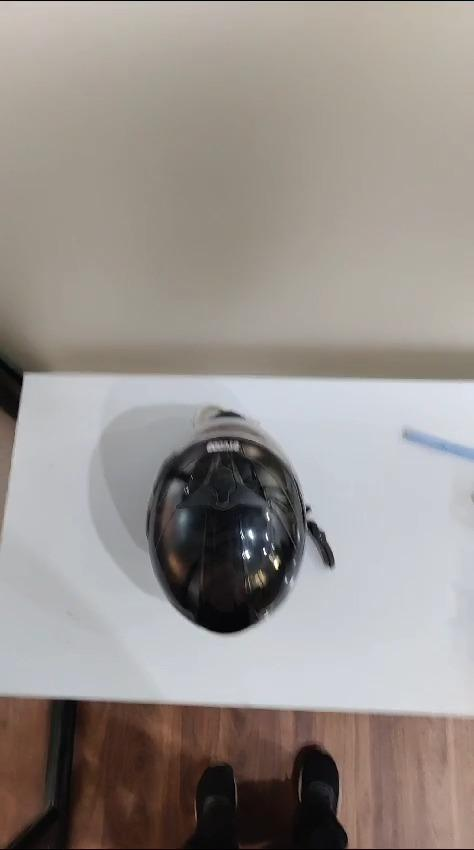Helmet: (138, 436, 313, 654)
